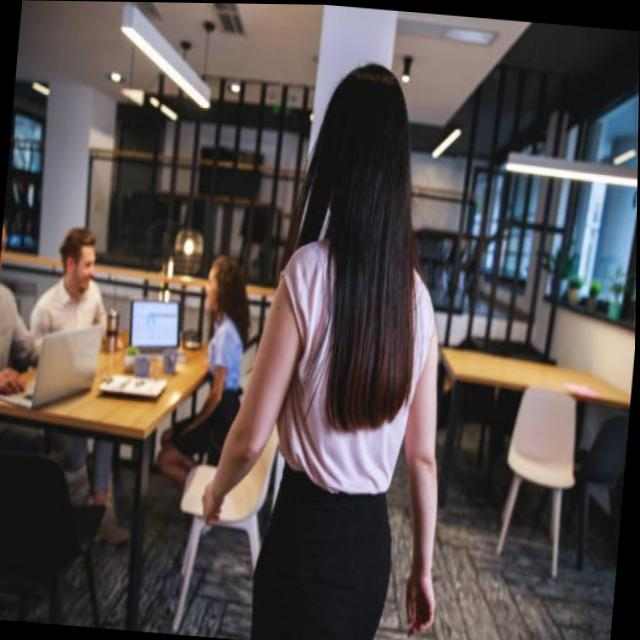no helmet: (305, 51, 426, 254)
